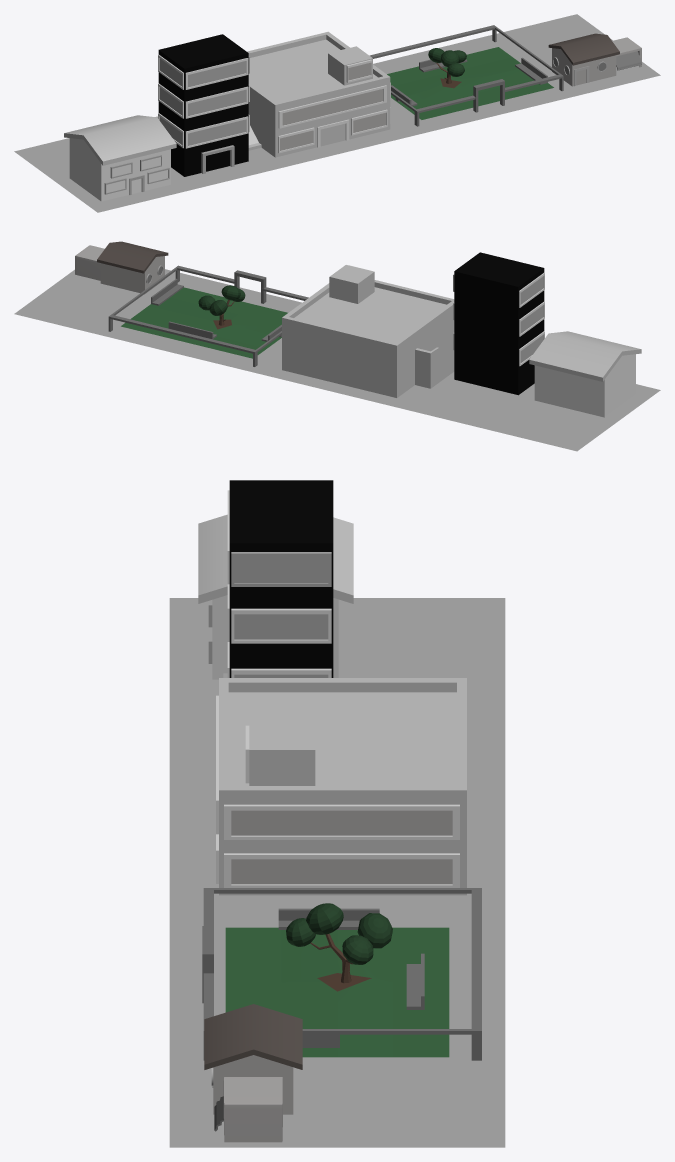
Rendered from Steet.fbx.
3 renders of one model, top to bottom at view 1: azimuth 30°, elevation 25°; view 2: azimuth 150°, elevation 25°; view 3: azimuth 270°, elevation 25°, orthographic. The views are drawn at different scales.
Visible parts, largest first — view 1: pPlane1, pCube2, pCube3, pCube16, pCube13, pCube42, pCube8, pCube1, pCube25, pCube24, pCube22, pCube9 (+11 smaller); view 2: pPlane1, pCube2, pCube3, pCube16, pCube42, pCube9, pCube8, pCube1, pCube10, pCube6, pCube30, pCube31 (+4 smaller); view 3: pPlane1, pCube2, pCube3, pCube20, pCube21, pCube16, pCube42, pCube8, pCube9, pCube6, pCube28, pCube26 (+3 smaller).
Part boxes in pixels (box(x1,y1,x2,y2)): pPlane1: box(14, 14, 660, 212); pCube2: box(247, 31, 390, 157); pCube3: box(158, 34, 248, 176); pCube16: box(64, 115, 176, 201); pCube13: box(278, 85, 386, 128); pCube42: box(369, 25, 563, 126); pCube8: box(548, 33, 619, 65); pCube1: box(552, 48, 616, 86); pCube25: box(185, 58, 248, 89); pCube24: box(185, 86, 248, 118); pCube22: box(185, 116, 248, 148); pCube9: box(328, 46, 372, 85); pPlane1: box(14, 269, 660, 451); pCube2: box(282, 280, 454, 397); pCube3: box(454, 252, 544, 395); pCube16: box(529, 331, 641, 417); pCube42: box(108, 265, 308, 366); pCube9: box(329, 265, 374, 303); pCube8: box(97, 241, 168, 273); pCube1: box(100, 256, 164, 294); pCube10: box(415, 347, 454, 388); pCube6: box(75, 245, 104, 280); pCube30: box(519, 272, 544, 307); pCube31: box(519, 301, 544, 336); pPlane1: box(169, 598, 505, 1147); pCube2: box(219, 678, 466, 895); pCube3: box(229, 480, 333, 677); pCube20: box(224, 804, 459, 839); pCube21: box(224, 853, 459, 887); pCube16: box(198, 514, 353, 679); pCube42: box(203, 888, 481, 1060); pCube8: box(204, 1004, 302, 1069); pCube9: box(249, 722, 315, 785); pCube6: box(223, 1077, 282, 1142); pCube28: box(231, 608, 331, 643); pCube26: box(231, 552, 331, 586).
Size of the model in its own units: 216 by 40.72 by 55.66.
